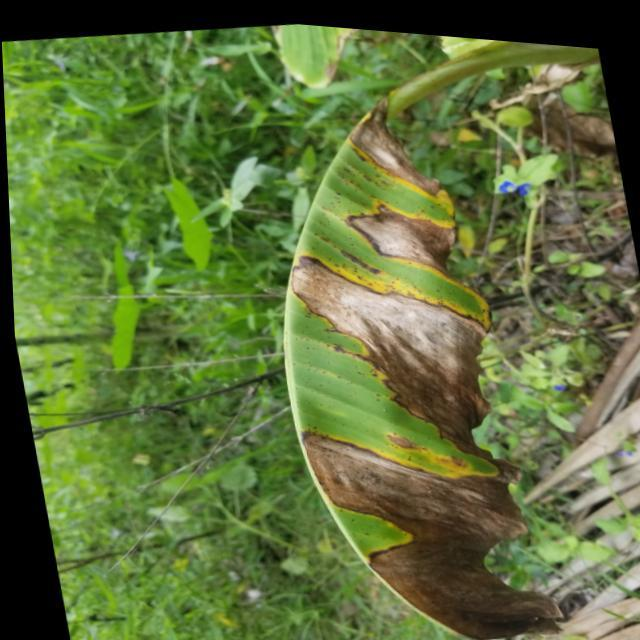Early_rust: (267, 104, 541, 581)
